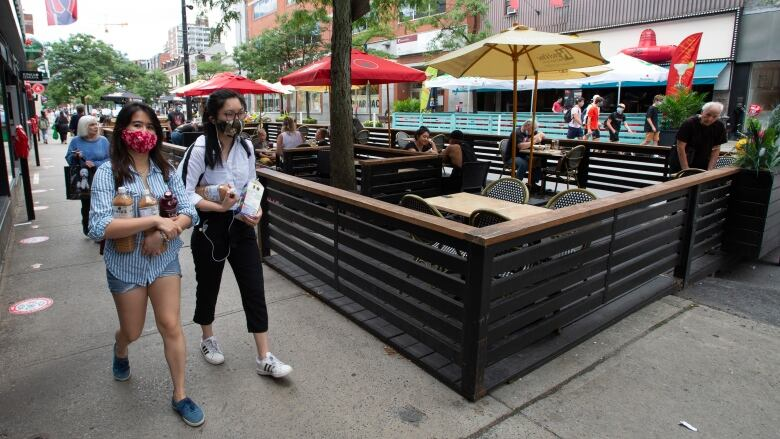with_mask: (120, 117, 160, 154), (211, 105, 249, 141)
without_mask: (703, 104, 720, 128), (87, 119, 101, 135)
